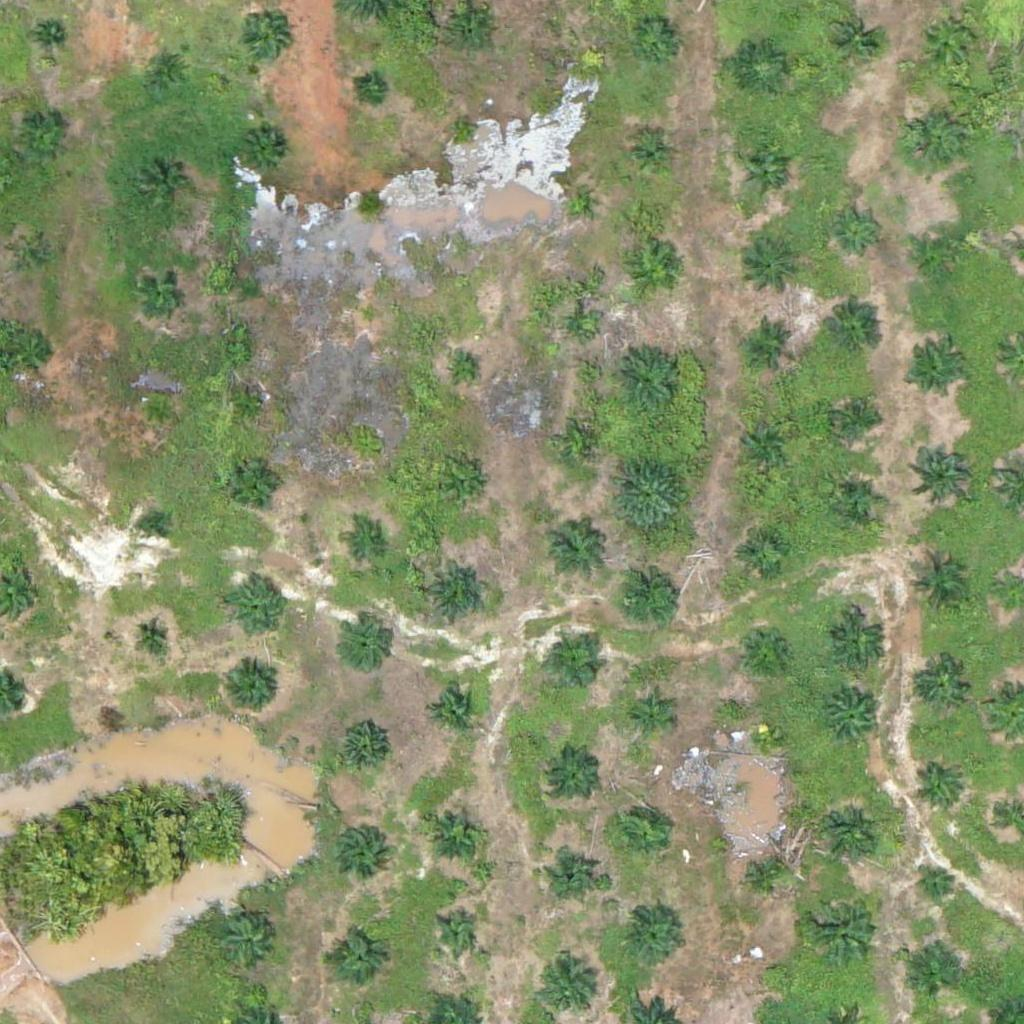Kelapa_Sawit: (608, 342, 683, 418), (612, 560, 687, 636), (807, 886, 882, 962), (612, 456, 687, 532), (541, 515, 604, 578), (826, 611, 889, 674), (426, 561, 489, 624), (742, 235, 805, 298), (900, 106, 963, 169), (821, 304, 884, 367), (905, 342, 967, 405), (538, 958, 600, 1021), (818, 803, 880, 866), (906, 555, 968, 618), (909, 439, 971, 502), (617, 905, 679, 968), (220, 658, 282, 721), (424, 800, 486, 863), (224, 576, 286, 639), (918, 9, 980, 72), (823, 690, 885, 752), (10, 327, 60, 378), (329, 934, 379, 985), (340, 620, 390, 671), (223, 919, 273, 970), (337, 721, 387, 772), (428, 685, 478, 736), (230, 457, 280, 508), (736, 43, 786, 94), (631, 14, 681, 65), (829, 14, 879, 65), (915, 227, 965, 278), (833, 204, 883, 255), (741, 146, 791, 197), (549, 846, 599, 896), (552, 640, 602, 690), (548, 750, 598, 800), (738, 623, 788, 673), (737, 527, 787, 577), (919, 658, 969, 708), (902, 953, 952, 1003), (615, 806, 665, 856), (334, 824, 384, 874), (630, 248, 680, 298), (742, 849, 792, 899), (449, 8, 499, 58), (831, 393, 881, 443), (833, 477, 883, 527), (739, 413, 789, 463), (744, 318, 794, 368), (626, 131, 676, 181), (914, 762, 964, 812), (238, 14, 288, 64), (241, 128, 291, 178), (138, 267, 188, 317), (138, 160, 188, 210), (145, 46, 195, 96), (18, 116, 68, 166), (630, 696, 668, 734), (343, 526, 381, 564), (917, 864, 955, 902), (448, 469, 485, 507), (437, 913, 474, 951), (135, 617, 172, 655), (139, 393, 177, 430), (13, 238, 51, 275), (232, 387, 269, 425), (358, 77, 383, 103), (570, 433, 595, 459), (563, 188, 588, 213), (568, 316, 593, 341), (451, 359, 476, 384), (451, 115, 476, 140), (751, 724, 776, 749), (758, 959, 783, 984), (141, 514, 166, 539), (357, 304, 382, 329), (37, 23, 61, 48)
